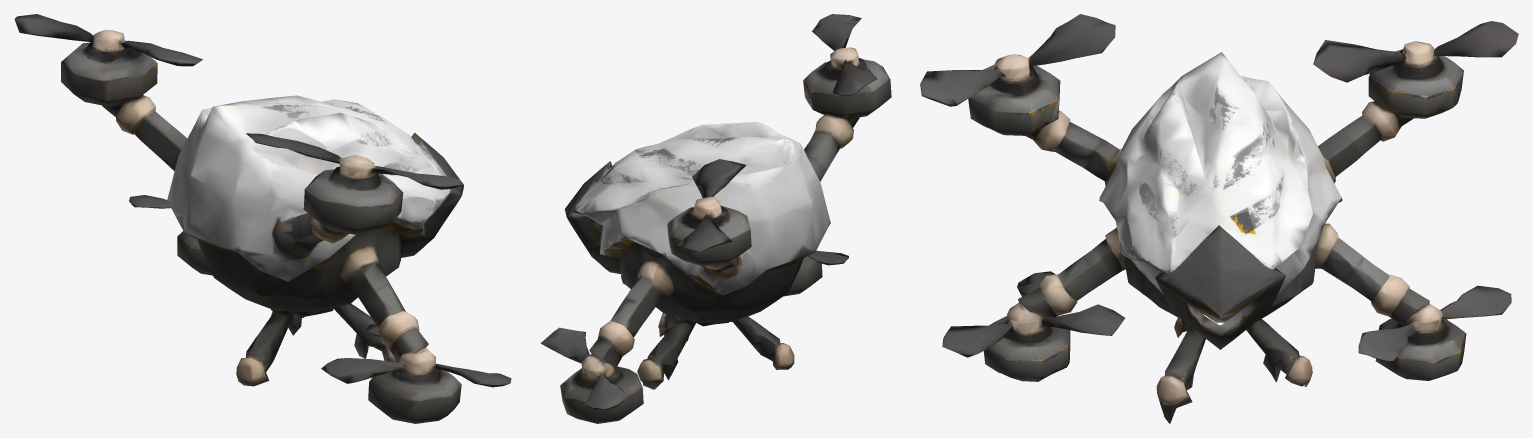
File: bomb_drone.glb
The picture shows the model from 3 angles, left to right: view 1: azimuth 30°, elevation 25°; view 2: azimuth 150°, elevation 25°; view 3: azimuth 270°, elevation 25°; orthographic projection. The views are drawn at different scales.
Parts seen in each view (by area): view 1: hull, arm_dr, arm_ul, arm_ur, cradle, rotor_dr, rotor_ul, rotor_ur, arm_dl; view 2: hull, arm_ur, arm_dl, cradle, arm_ul, rotor_dl, rotor_ul, rotor_ur, arm_dr, rotor_dr; view 3: hull, arm_ur, arm_ul, arm_dl, arm_dr, cradle, rotor_ul, rotor_ur, rotor_dr, rotor_dl.
Part boxes in pixels (box(x1,y1,x2,y2)): hull: box(144, 46, 463, 311); arm_dr: box(360, 269, 461, 423); arm_ul: box(15, 14, 179, 159); arm_ur: box(249, 135, 461, 243); cradle: box(236, 303, 397, 386); rotor_dr: box(321, 329, 511, 387); rotor_ul: box(14, 14, 198, 61); rotor_ur: box(285, 140, 459, 189); arm_dl: box(177, 231, 212, 275); hull: box(565, 79, 864, 322); arm_ur: box(803, 14, 891, 180); arm_dl: box(553, 278, 657, 423); cradle: box(637, 313, 794, 389); arm_ul: box(667, 178, 751, 269); rotor_dl: box(540, 327, 627, 409); rotor_ul: box(678, 159, 734, 247); rotor_ur: box(812, 14, 867, 93); arm_dr: box(783, 256, 822, 296); rotor_dr: box(808, 250, 848, 265); hull: box(1088, 22, 1457, 349); arm_ur: box(920, 14, 1108, 176); arm_ul: box(1328, 23, 1518, 176); arm_dl: box(1329, 238, 1466, 380); arm_dr: box(983, 250, 1110, 381); cradle: box(1085, 304, 1312, 423); rotor_ul: box(1314, 21, 1515, 82); rotor_ur: box(921, 25, 1114, 106); rotor_dr: box(942, 271, 1110, 357); rotor_dl: box(1358, 285, 1511, 361).
Size of the model in its own units: 0.6147 by 0.5878 by 1.
3 materials, 3 textured.
